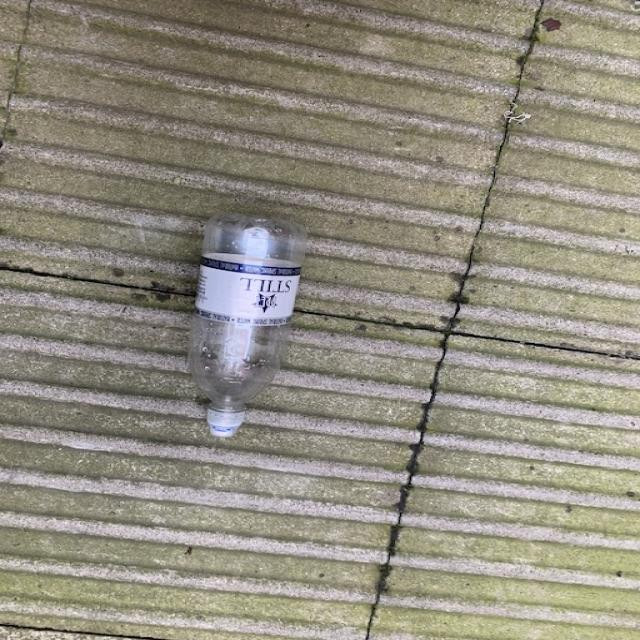litter: (185, 214, 311, 442)
